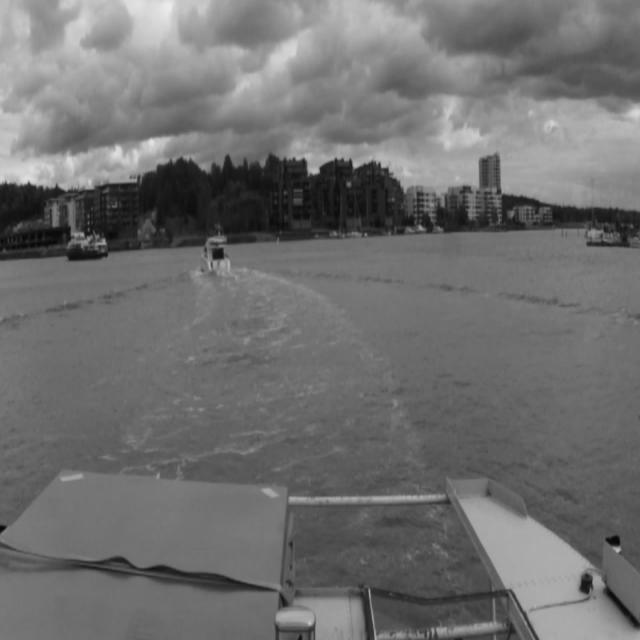ship: (203, 223, 231, 273), (63, 230, 109, 260), (585, 179, 604, 238)
